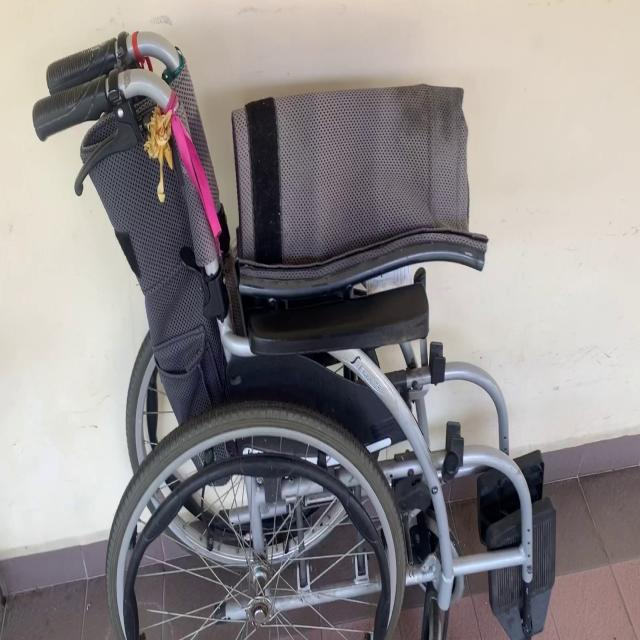wheelchair: (28, 21, 570, 640)
